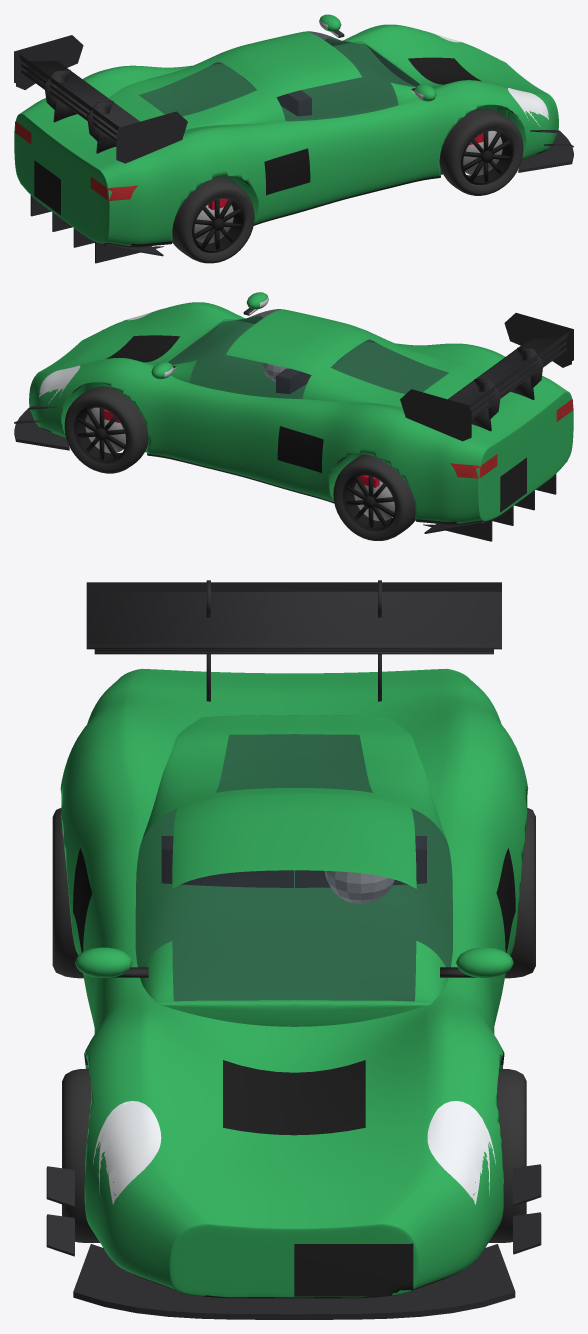
Rendered from i4_light_roadster.glb.
3 views of the same model, one above another, from view 1: azimuth 30°, elevation 25°; view 2: azimuth 150°, elevation 25°; view 3: azimuth 270°, elevation 25° (orthographic). The views are drawn at different scales.
Visible parts, largest first — view 1: body, cabin, bumper_rear, wing_rear_up3, wheel_fr_spin, wheel_rr_spin, bumper_front, diffuser, wing_rear, wing_rear_up2, splitter_up, interior (+2 smaller); view 2: body, cabin, bumper_rear, wing_rear_up3, wheel_fl_spin, wheel_rl_spin, bumper_front, diffuser, wing_rear_up2, wing_rear, splitter_up, interior (+2 smaller); view 3: body, cabin, bumper_front, wing_rear_up3, bumper_rear, splitter_up, splitter, interior, canards, wheel_fr_spin, wheel_fl_spin, wheel_rr_spin (+5 smaller).
Part boxes in pixels (box(x1,y1,x2,y2)): body: box(82, 24, 519, 245); cabin: box(108, 31, 422, 129); bumper_rear: box(14, 98, 162, 247); wing_rear_up3: box(14, 35, 187, 162); wheel_fr_spin: box(439, 109, 523, 195); wheel_rr_spin: box(172, 176, 254, 263); bumper_front: box(425, 31, 558, 160); diffuser: box(20, 183, 163, 263); wing_rear: box(16, 56, 126, 163); wing_rear_up2: box(16, 48, 125, 162); splitter_up: box(518, 130, 573, 172); interior: box(242, 76, 311, 116); body: box(68, 302, 505, 523); cabin: box(166, 309, 478, 406); bumper_rear: box(425, 375, 573, 525); wing_rear_up3: box(400, 313, 573, 440); wheel_fl_spin: box(64, 386, 148, 473); wheel_rl_spin: box(333, 454, 415, 540); bumper_front: box(29, 308, 162, 437); diffuser: box(423, 461, 567, 541); wing_rear_up2: box(463, 326, 571, 439); wing_rear: box(461, 337, 571, 441); splitter_up: box(14, 409, 69, 450); interior: box(262, 354, 345, 393); body: box(60, 695, 528, 1140); cabin: box(135, 715, 452, 1026); bumper_front: box(84, 1098, 504, 1298); wing_rear_up3: box(86, 580, 501, 701); bumper_rear: box(87, 668, 501, 723); splitter_up: box(73, 1244, 515, 1319); splitter: box(80, 1247, 507, 1308); interior: box(161, 836, 426, 903); canards: box(46, 1164, 541, 1256); wheel_fr_spin: box(62, 1068, 99, 1242); wheel_fl_spin: box(488, 1068, 526, 1242); wheel_rr_spin: box(52, 808, 83, 978).
Size of the model in its own units: 4.18 by 1.31 by 1.87.
